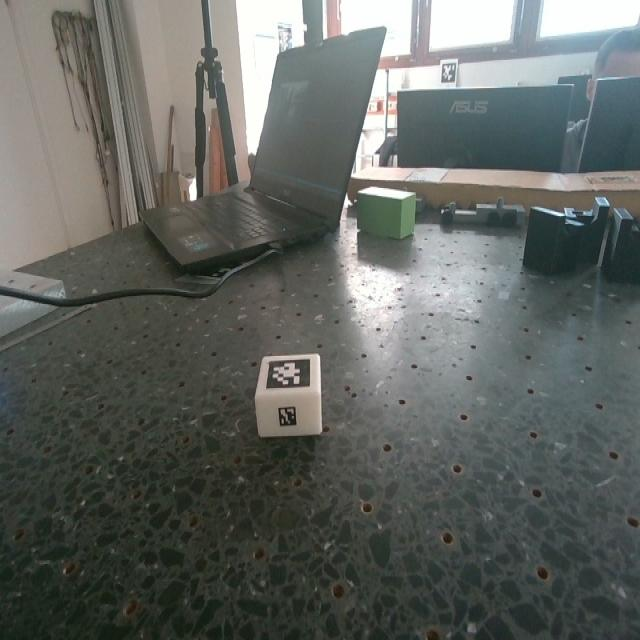Cube: (253, 351, 322, 437)
